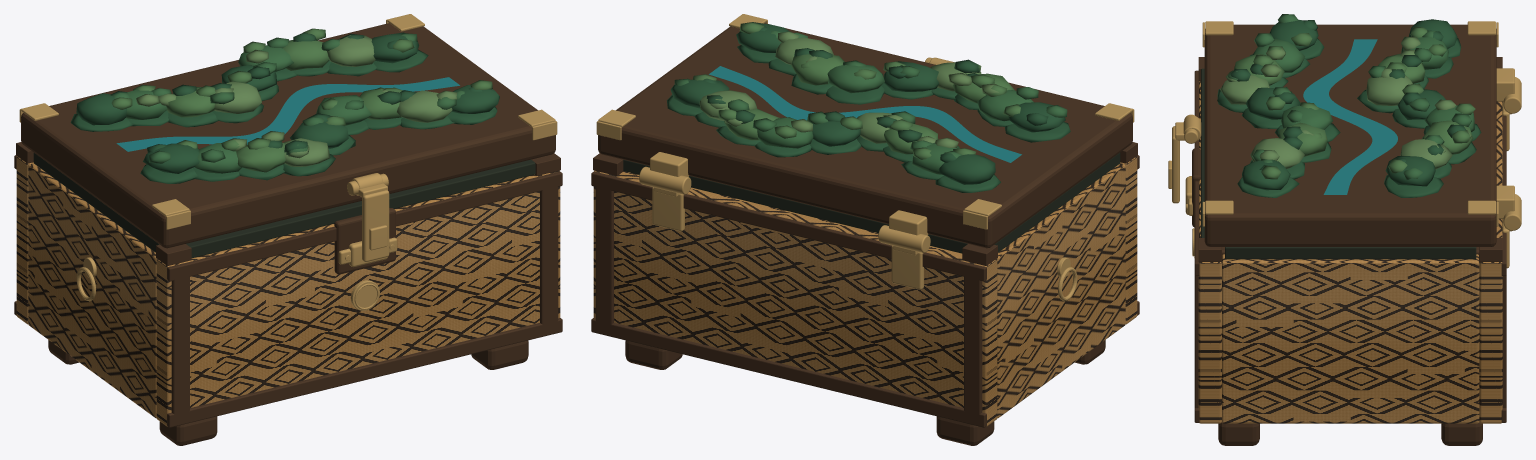
Rendered from dr-congo.glb.
3 renders of one model, left to right at view 1: azimuth 30°, elevation 25°; view 2: azimuth 150°, elevation 25°; view 3: azimuth 270°, elevation 25°, orthographic.
Parts seen in each view (by area): view 1: Raffia / front, Lid / polished slab, Raffia / side, Frame / horizontal, Seam / long, Frame / horizontal.001, River / continuous channel, Frame / upright, Frame / upright.002, Raffia / rear, Latch / lifting hasp, Frame / clasp seat (+26 smaller); view 2: Raffia / rear, Lid / polished slab, Raffia / side, Frame / horizontal.002, Frame / horizontal.003, River / continuous channel, Seam / long.001, Frame / upright.001, Frame / upright.003, Raffia / front, Seam / side, Canopy / crown.009 (+29 smaller); view 3: Raffia / side.001, Lid / polished slab, Raffia / rear, Raffia / front, River / continuous channel, Seam / side.001, Canopy / crown.012, Canopy / crown.008, Foot / umber.002, Foot / umber.003, Canopy / crown.017, Canopy / crown.003 (+35 smaller).
Part boxes in pixels (box(x1,y1,x2,y2)): Raffia / front: box(156, 170, 560, 426); Lid / polished slab: box(21, 23, 555, 248); Raffia / side: box(28, 163, 156, 418); Frame / horizontal: box(167, 318, 562, 427); Seam / long: box(186, 159, 535, 258); Frame / horizontal.001: box(167, 171, 562, 281); River / continuous channel: box(116, 77, 459, 151); Frame / upright: box(171, 270, 189, 418); Frame / upright.002: box(540, 186, 558, 324); Raffia / rear: box(16, 156, 33, 324); Latch / lifting hasp: box(362, 190, 389, 261); Frame / clasp seat: box(334, 208, 395, 274); Raffia / rear: box(593, 170, 997, 426); Lid / polished slab: box(598, 23, 1132, 248); Raffia / side: box(997, 163, 1125, 418); Frame / horizontal.002: box(591, 318, 986, 427); Frame / horizontal.003: box(591, 171, 986, 281); River / continuous channel: box(709, 66, 1021, 162); Seam / long.001: box(623, 159, 967, 253); Frame / upright.001: box(964, 268, 982, 422); Frame / upright.003: box(595, 180, 613, 324); Raffia / front: box(1120, 156, 1137, 324); Seam / side: box(994, 153, 1120, 252); Canopy / crown.009: box(938, 154, 995, 184); Raffia / side.001: box(1222, 254, 1479, 423); Lid / polished slab: box(1204, 24, 1496, 246); Raffia / rear: box(1479, 101, 1502, 423); Raffia / front: box(1198, 81, 1221, 423); River / continuous channel: box(1303, 39, 1397, 194); Seam / side.001: box(1225, 247, 1476, 259); Canopy / crown.012: box(1366, 75, 1412, 105); Canopy / crown.008: box(1242, 160, 1290, 190); Foot / umber.002: box(1218, 422, 1259, 445); Foot / umber.003: box(1441, 422, 1482, 445); Canopy / crown.017: box(1385, 156, 1435, 186); Canopy / crown.003: box(1220, 75, 1269, 104).
Size of the model in its own units: 3.79 by 2.43 by 2.88.
9 materials, 1 textured.
